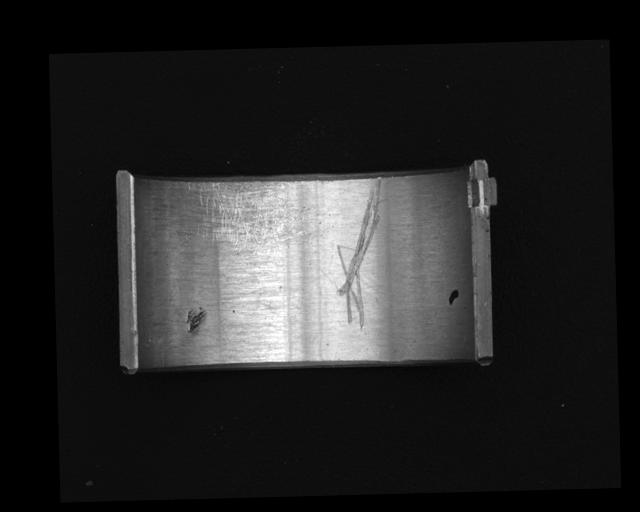blot: (446, 287, 460, 306)
bruise: (184, 305, 206, 336)
nick: (334, 175, 388, 329)
scratch: (188, 178, 321, 251)
